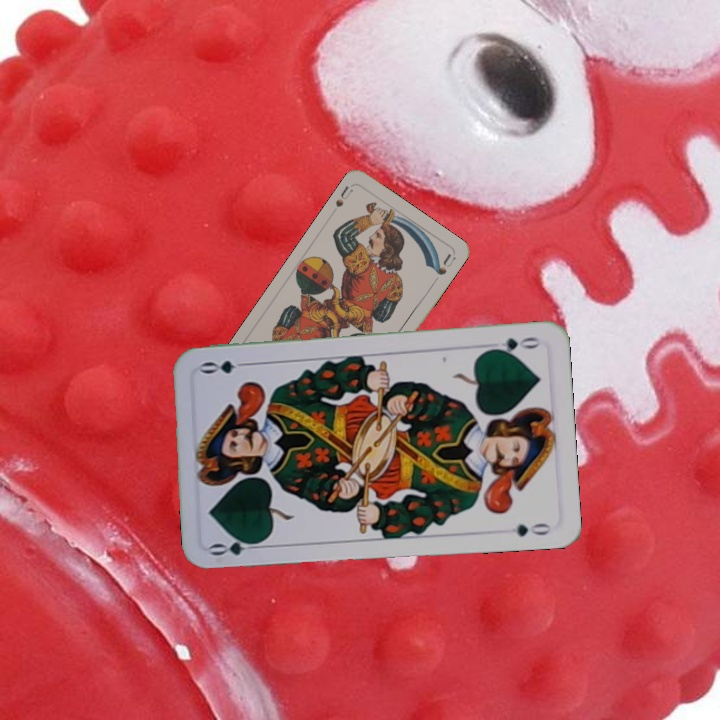GO: (207, 534, 266, 558), (485, 333, 543, 357)
SU: (331, 182, 355, 210)
